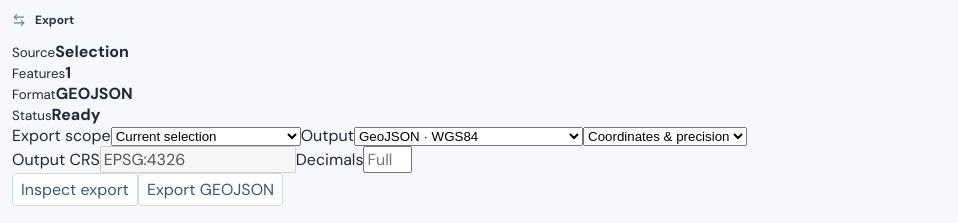
Test: Data and Export independent fixed workbenches › disables unusable formats and does not generate fake GeoTIFFs
Select "Analysis GeoTIFF" in the dropdown named "Export format" at (468, 136), box [354, 127, 583, 146]
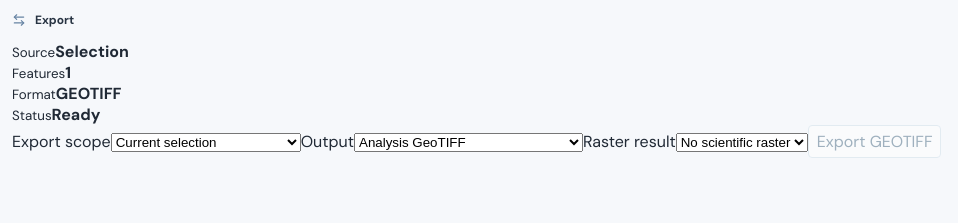
Expected: the button "Export GEOTIFF" is disabled, [808, 125, 942, 158]
